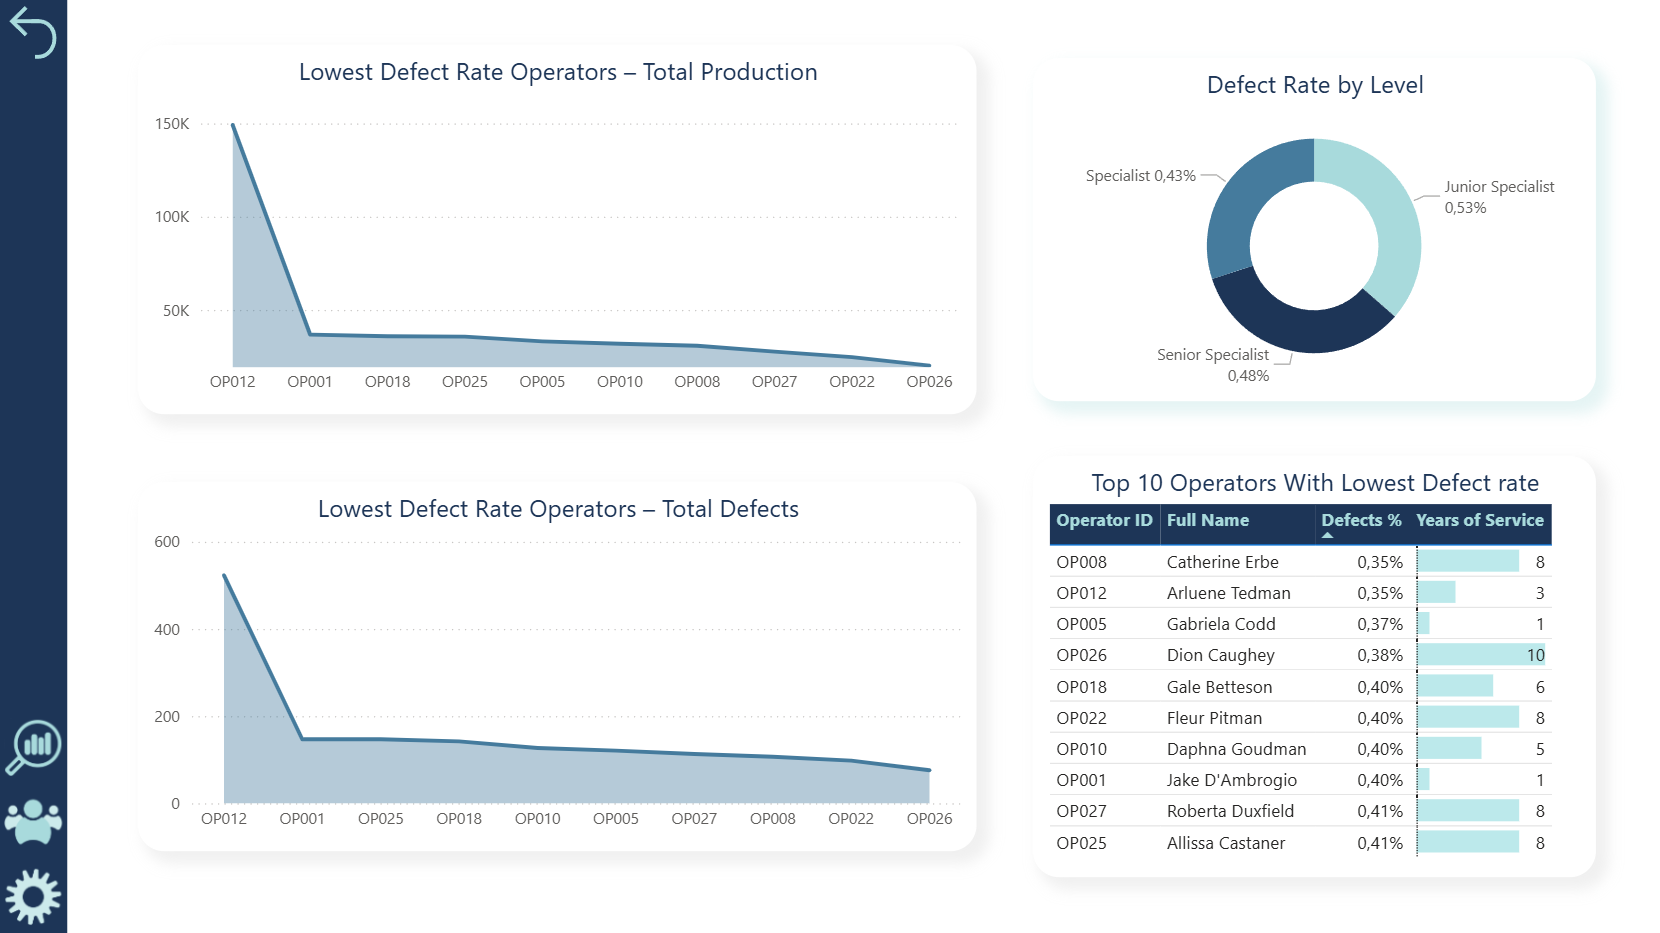

What the dashboard file says about the page in this screenshot:
{"tool":"powerbi","page":{"name":"Opeator Detail","canvas":[1280,720],"ordinal":1},"visuals":[{"type":"shape","title":"Nav Bar","box":[0,0,52.5,720],"z":0},{"type":"actionButton","box":[0,548.2,52.7,57.3],"z":0,"group":"g1"},{"type":"tableEx","title":"Top 10 Operators With Lowest Defect rate","fields":{"Values":["Operator Lookup.Operator ID","Operator Lookup.Full Name","Measure Table.Defects %","Operator Lookup.Years of Service"]},"box":[795,352.5,432.5,324.2],"z":1000},{"type":"actionButton","box":[0,605.5,52.7,57.3],"z":1000,"group":"g1"},{"type":"areaChart","title":"Lowest Defect Rate Operators – Total Defects","fields":{"Category":["Operator Lookup.Operator ID"],"Y":["Measure Table.Total Defects"]},"box":[106.7,372.5,645,284.2],"z":2000},{"type":"actionButton","box":[0,662.7,52.7,57.3],"z":2000,"group":"g1"},{"type":"donutChart","title":"Defect Rate by Level","fields":{"Category":["Operator Lookup.Level"],"Y":["Measure Table.Defects %"]},"box":[795,45.8,432.5,264.2],"z":3000},{"type":"areaChart","title":"Lowest Defect Rate Operators – Total Production","fields":{"Category":["Operator Lookup.Operator ID"],"Y":["Measure Table.Total Units"]},"box":[106.9,36.2,644.6,283.8],"z":4000},{"type":"group","id":"g1","title":"Navigation","box":[0,548.2,52.7,171.8],"z":5000},{"type":"actionButton","title":"Reset","box":[0,0,52.7,53.6],"z":6000}]}

Visuals, with their boxes on the page's 1280x720 design canvas (x1, y1, x2, y2). These are canvas units, not pixel positions in the 1660x933 screenshot, which may show the page scaled, cropped or inside an application window:
"Nav Bar" shape: box(0, 0, 52, 720)
actionButton: box(0, 548, 53, 606)
"Top 10 Operators With Lowest Defect rate" tableEx: box(795, 352, 1228, 677)
actionButton: box(0, 606, 53, 663)
"Lowest Defect Rate Operators – Total Defects" areaChart: box(107, 372, 752, 657)
actionButton: box(0, 663, 53, 720)
"Defect Rate by Level" donutChart: box(795, 46, 1228, 310)
"Lowest Defect Rate Operators – Total Production" areaChart: box(107, 36, 752, 320)
"Navigation" group: box(0, 548, 53, 720)
"Reset" actionButton: box(0, 0, 53, 54)
